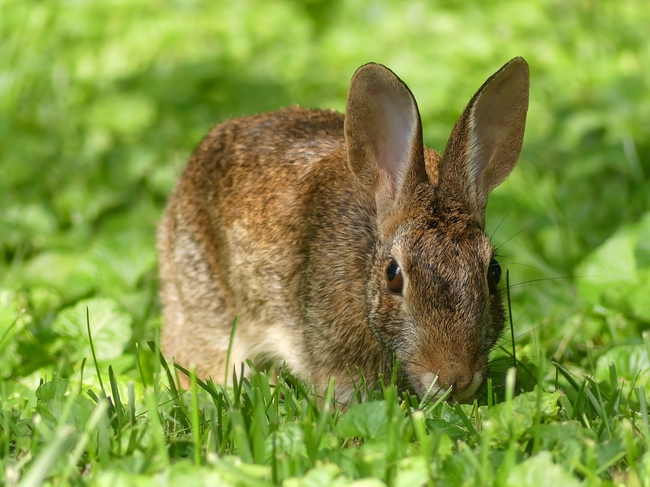rabbit: (157, 51, 539, 412)
